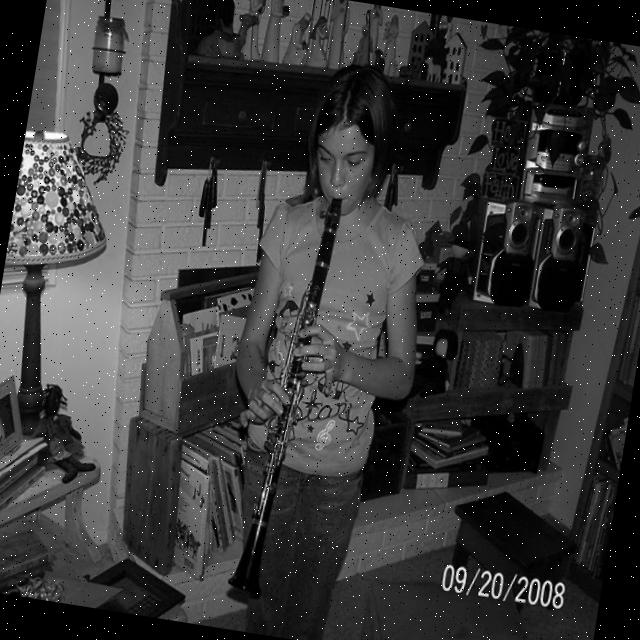clarinet: (225, 188, 348, 609)
